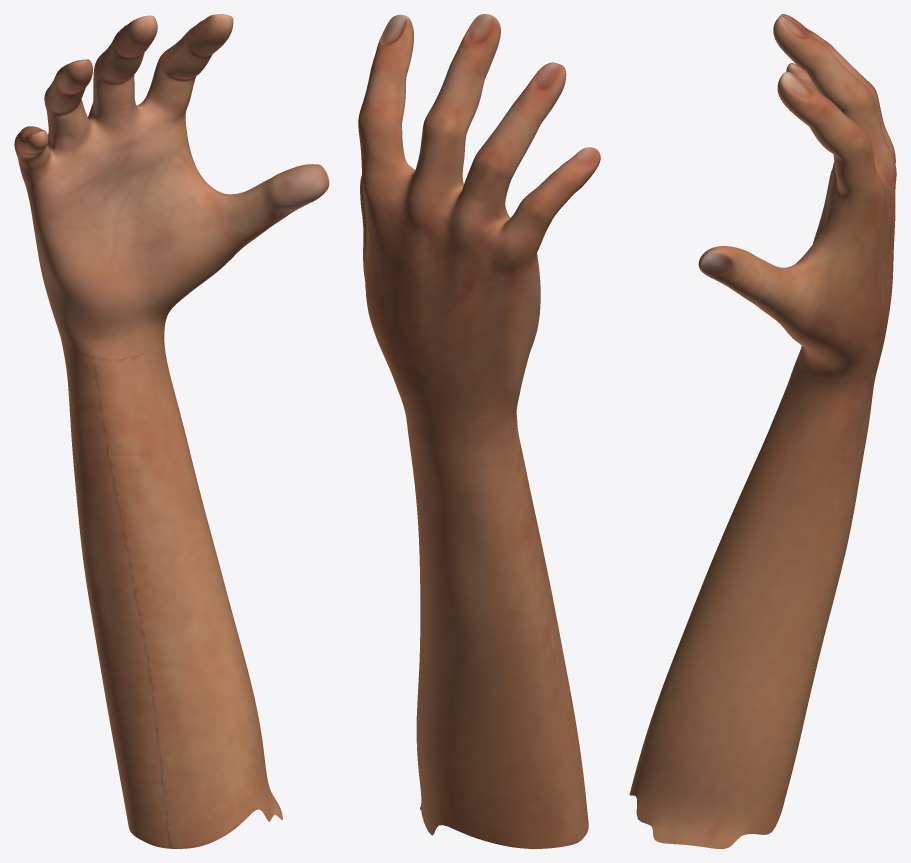
Rendered from chea-hands.glb.
3 views of the same model, side by side, from view 1: azimuth 30°, elevation 25°; view 2: azimuth 150°, elevation 25°; view 3: azimuth 270°, elevation 25° (orthographic). The views are drawn at different scales.
Parts seen in each view (by area): view 1: chea_hand; view 2: chea_hand; view 3: chea_hand.
Part boxes in pixels (left/top/right/bottom): chea_hand: left=14, top=14, right=329, bottom=848; chea_hand: left=358, top=14, right=600, bottom=848; chea_hand: left=629, top=14, right=896, bottom=848.
Bounding box in the file's own units: 0.1248 × 0.365 × 0.1117.
Materials: 1 (1 with a texture image).
